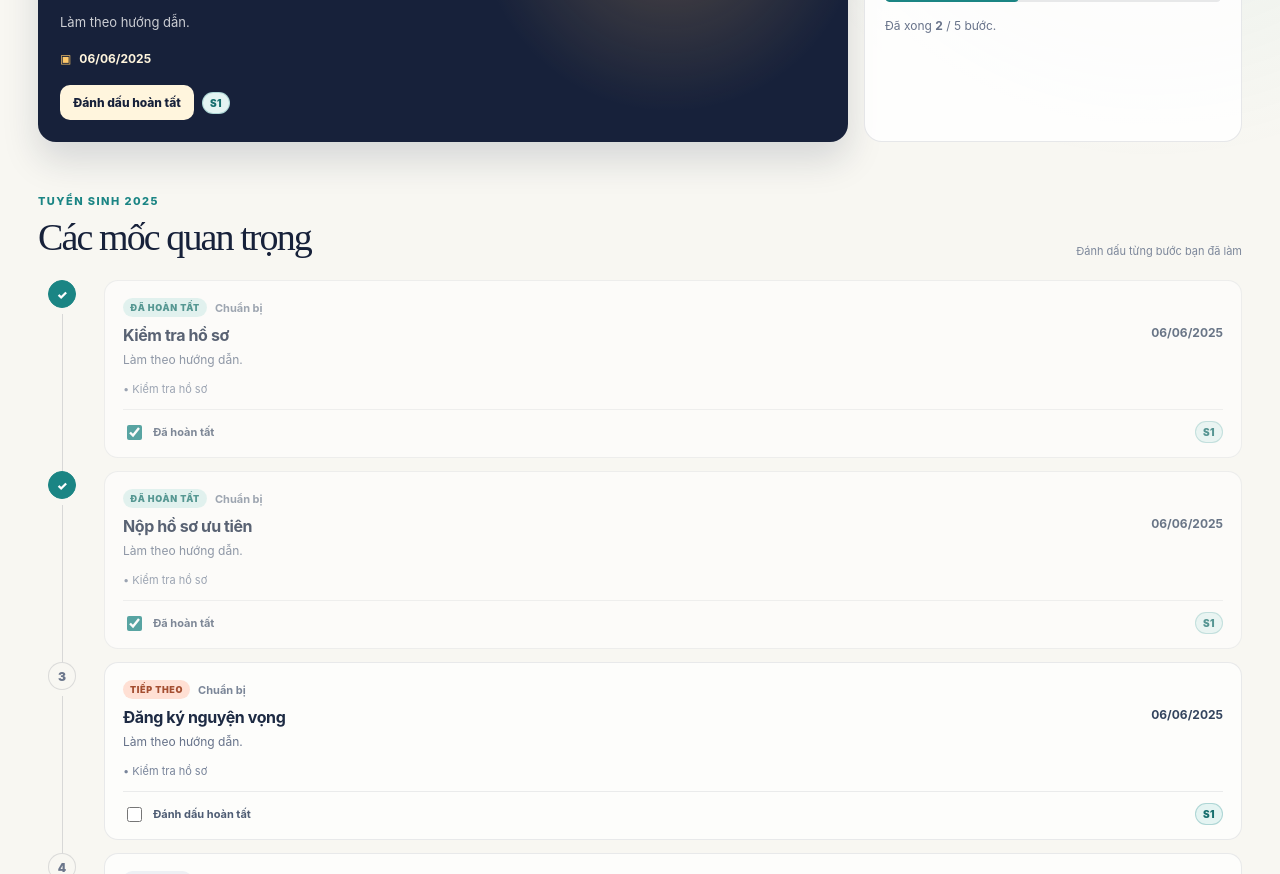
Test: admissions demo flows › returns to the first unfinished step when an earlier step is reopened
(page scrolled)
Step 1. Click the 1st checkbox labelled "Đã hoàn tất" → (134, 432), box [127,425,142,440]
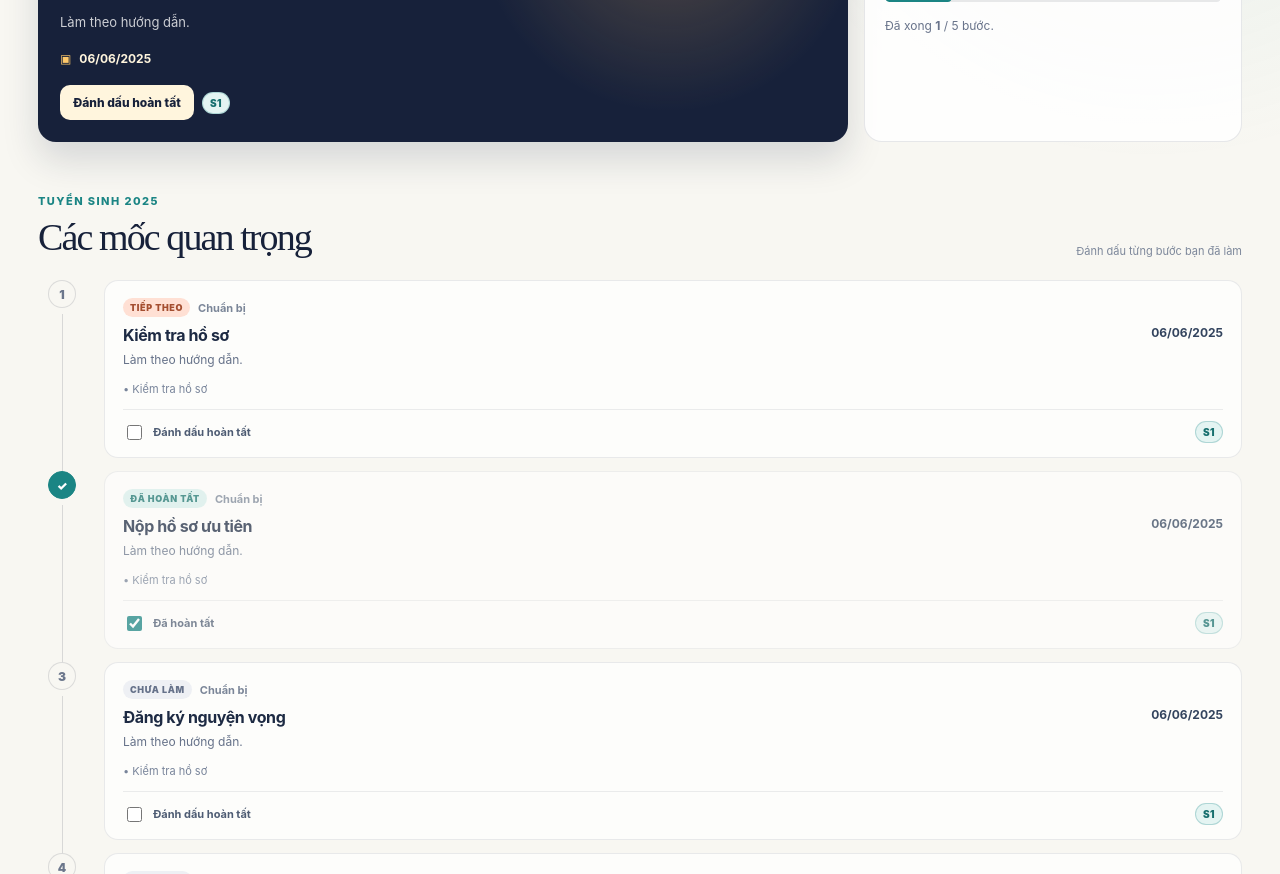
Result: the text with class "status-tag" reads "Tiếp theo" at [130,302,183,313]
